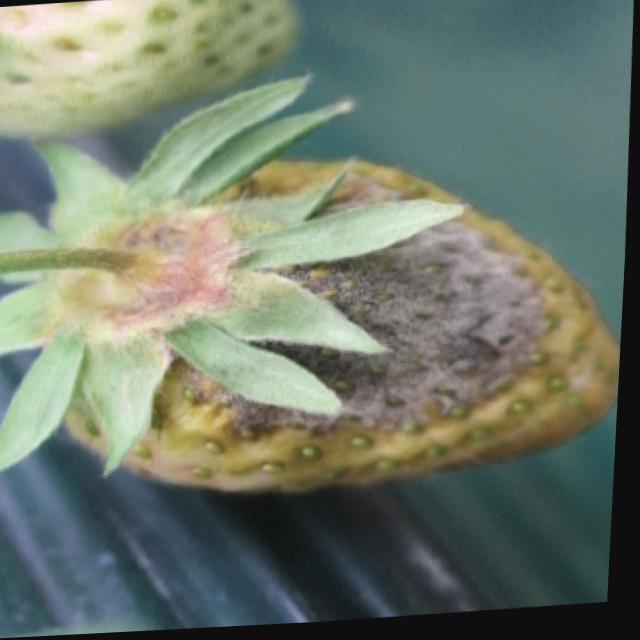Gray Mold: (75, 151, 598, 492)
